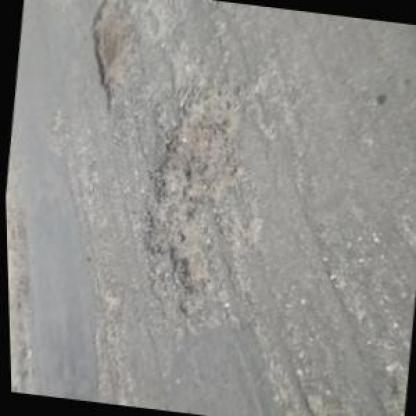pothole: (124, 85, 252, 323), (79, 0, 144, 114)
